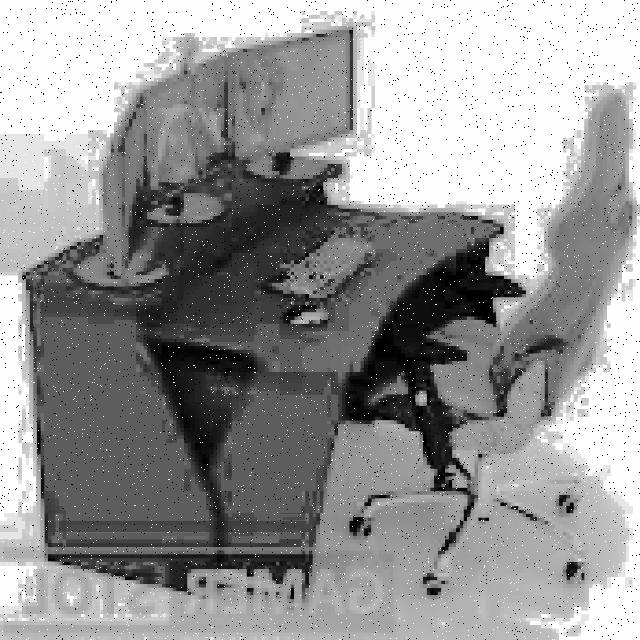book: (349, 90, 640, 596)
table: (22, 186, 515, 603)
